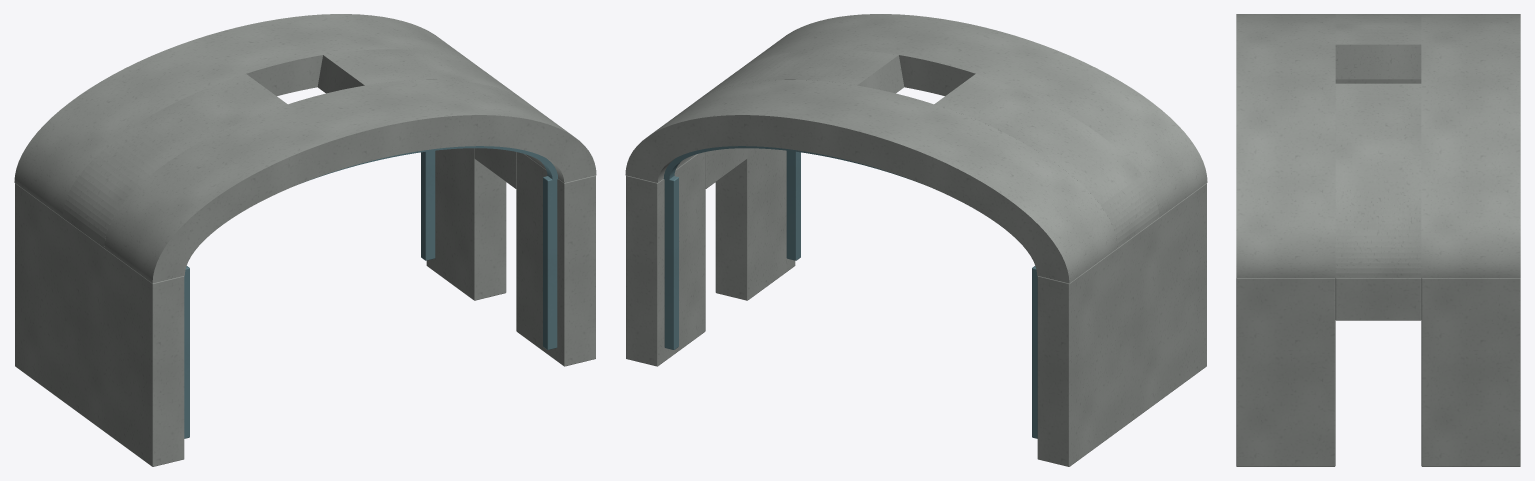
Rendered from gorgehold-survivor-gallery-and-operations-gallery-arch-2f714bf5__32896.glb.
3 renders of one model, left to right at view 1: azimuth 30°, elevation 25°; view 2: azimuth 150°, elevation 25°; view 3: azimuth 270°, elevation 25°, orthographic. The views are drawn at different scales.
Visible parts, largest first — view 1: gallery-arch-bay-lightwell-configuration; view 2: gallery-arch-bay-lightwell-configuration; view 3: gallery-arch-bay-lightwell-configuration.
Part boxes in pixels (<box>): gallery-arch-bay-lightwell-configuration: <box>14,14,596,466</box>; gallery-arch-bay-lightwell-configuration: <box>625,14,1207,466</box>; gallery-arch-bay-lightwell-configuration: <box>1236,14,1520,466</box>.
Size of the model in its own units: 7.98 by 4.89 by 4.3.
Materials: 2 (2 with a texture image).
